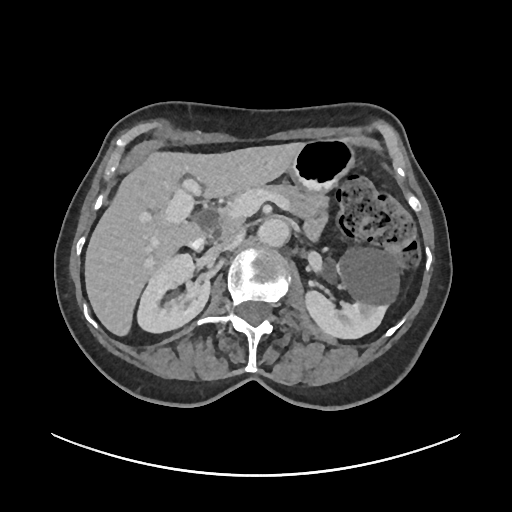Lesion: (334, 243, 403, 308)
